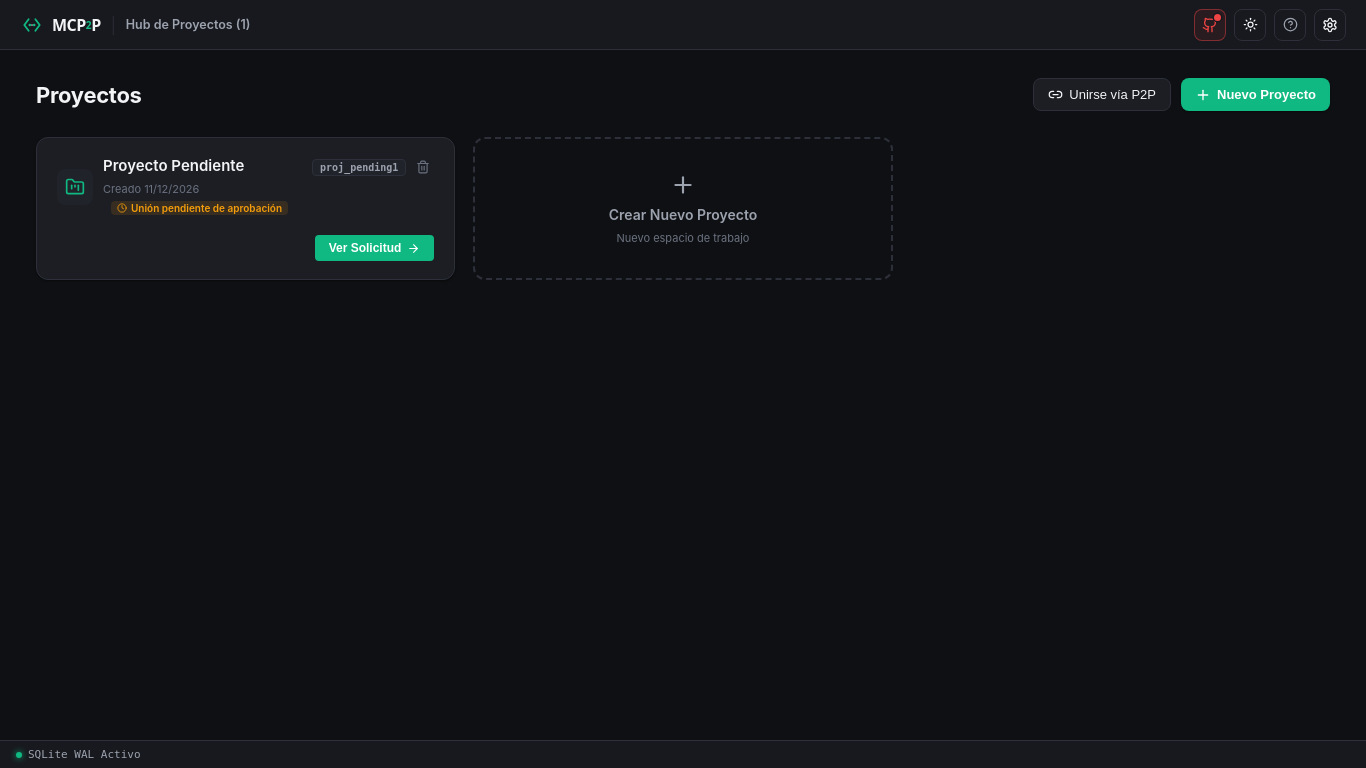
it: App - stubs de unión pendientes en el hub de proyectos (hallazgo C2) › el doble clic sobre la tarjeta del stub también abre la pantalla de espera
Expected: the button "Unirse vía P2P" is shown, [1033, 78, 1171, 111]
Double-click the element with test id "project-card-pending".
double_click(246, 208)  # box [36, 137, 455, 280]
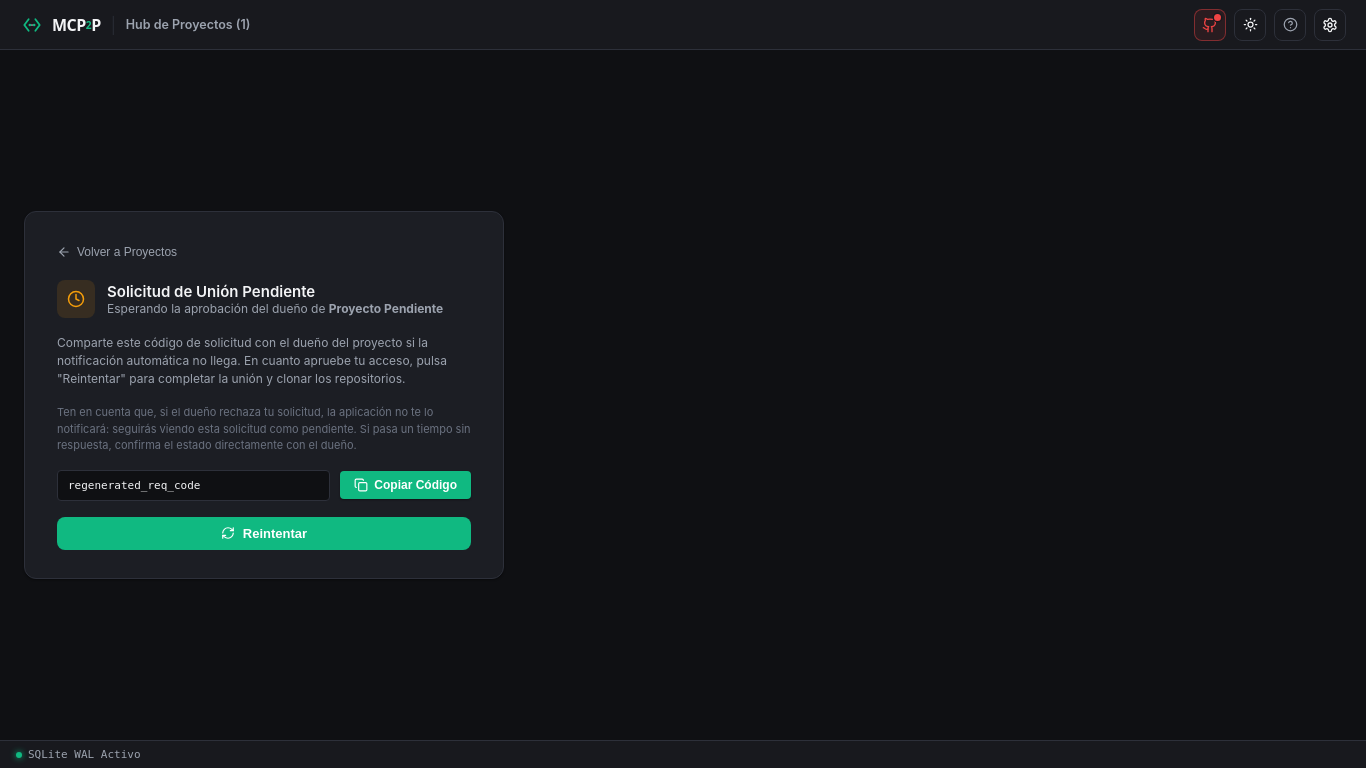
Result: the element with test id "join-request-pending" is shown at [24, 211, 504, 579]
